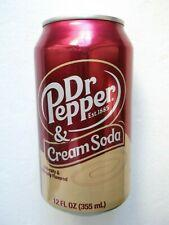metal: (35, 18, 133, 214)
